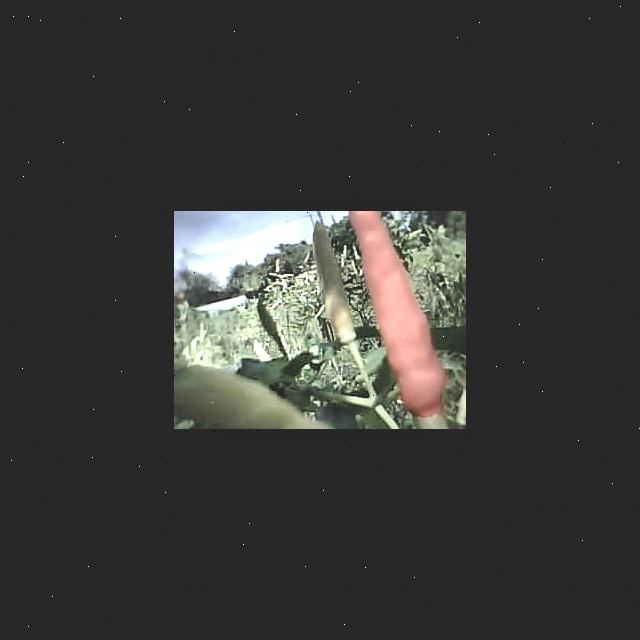Cabai: (362, 211, 454, 410)
